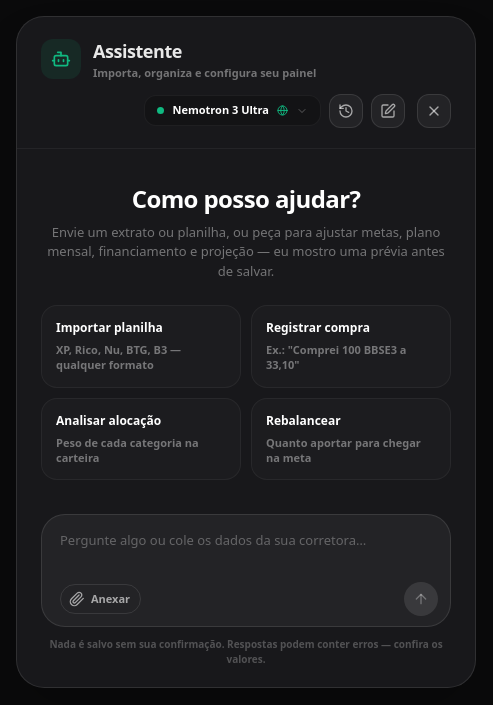
Test: FloatingChat › says so when there is no saved conversation
Click the button named "Conversas".
click(346, 110)  # box 329,94 -> 363,128
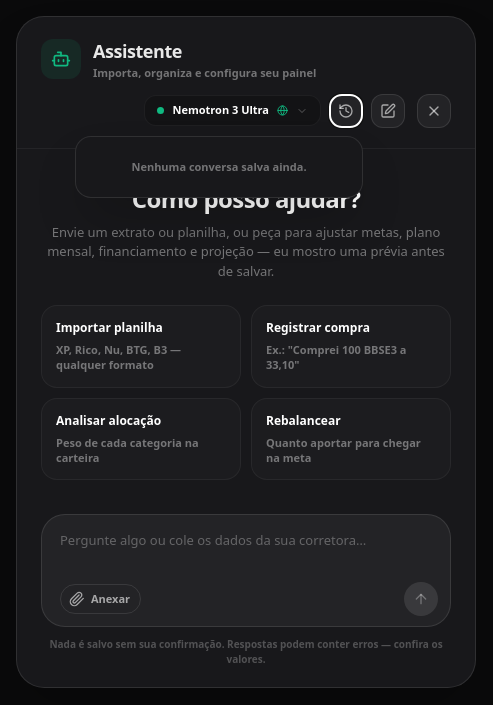
expect the text "Nenhuma conversa salva ainda." is shown: met, box 132,158 -> 306,174
